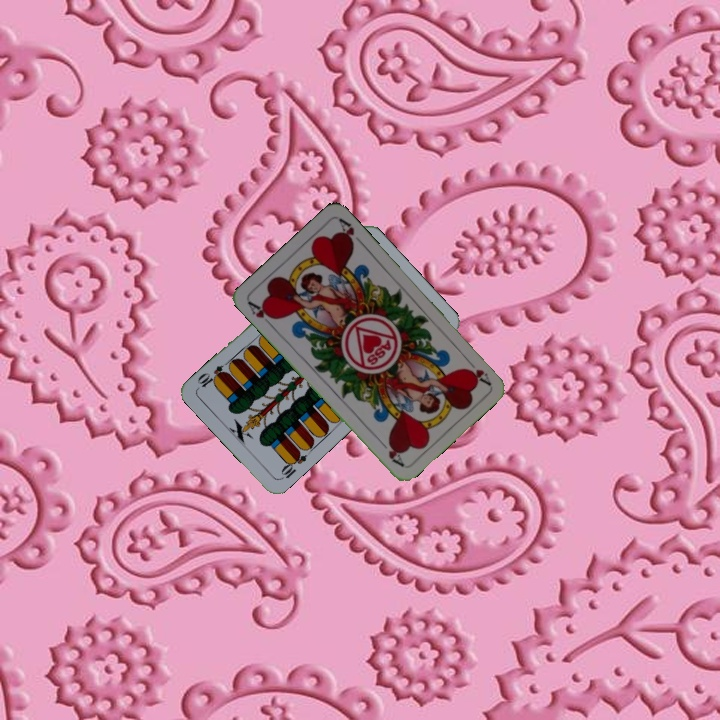E10: (276, 447, 309, 482)
HA: (244, 298, 278, 330), (461, 354, 493, 388)
